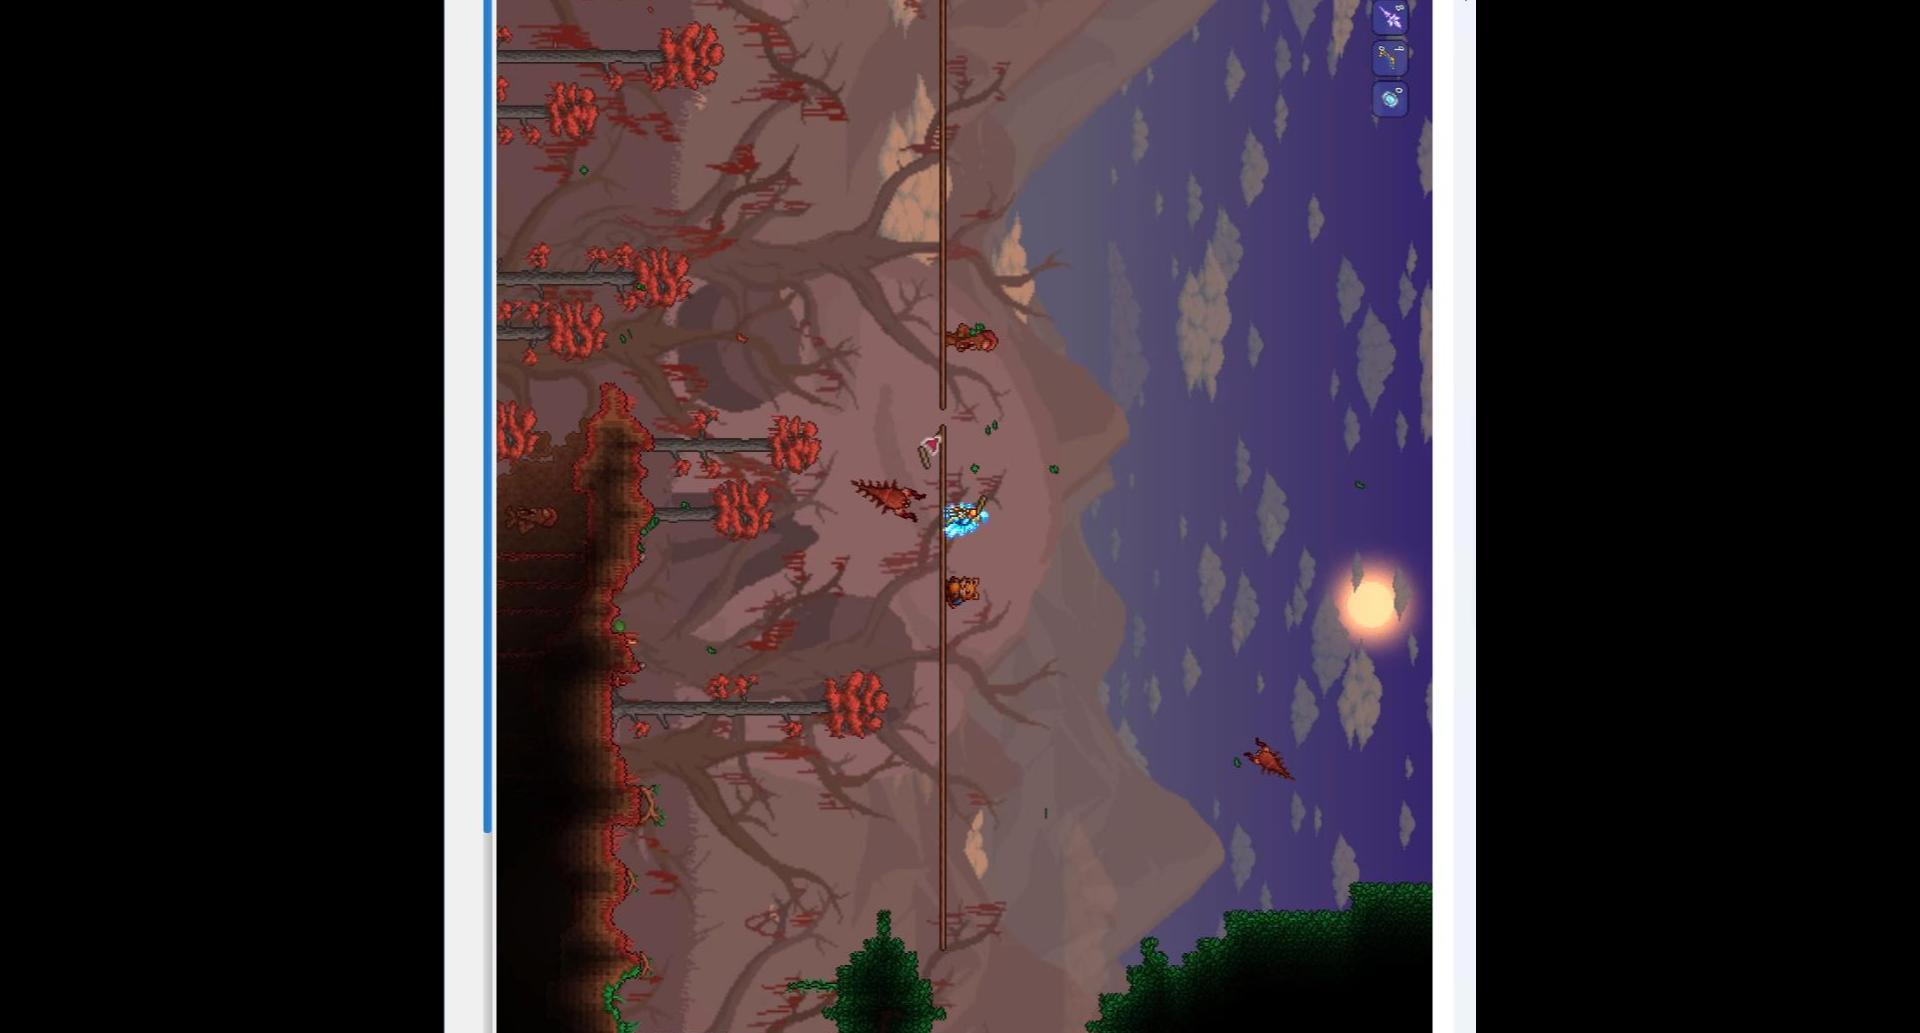crimera: (857, 472, 926, 527), (1233, 738, 1291, 781)
zombie: (943, 321, 999, 359)
